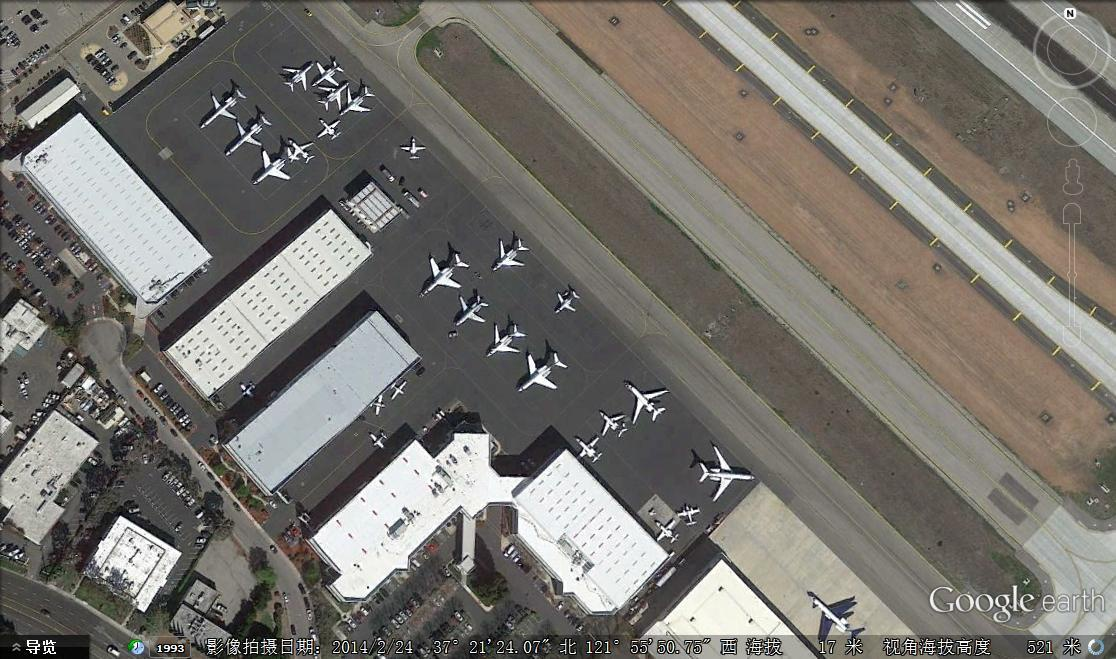aircraft: (698, 442, 760, 506), (803, 585, 868, 646), (249, 137, 317, 188), (620, 375, 674, 429), (416, 247, 471, 296), (220, 111, 272, 159), (200, 83, 249, 131), (526, 347, 571, 396), (489, 235, 531, 276), (593, 404, 633, 446), (487, 321, 528, 360), (567, 432, 608, 467), (453, 290, 490, 327), (336, 83, 375, 117), (280, 60, 315, 96), (309, 56, 346, 90), (316, 81, 352, 114), (553, 284, 585, 319), (650, 518, 683, 548), (675, 499, 704, 529), (399, 136, 430, 162), (315, 116, 342, 145), (387, 375, 413, 404), (364, 427, 390, 452), (234, 378, 257, 399), (370, 391, 388, 417)
